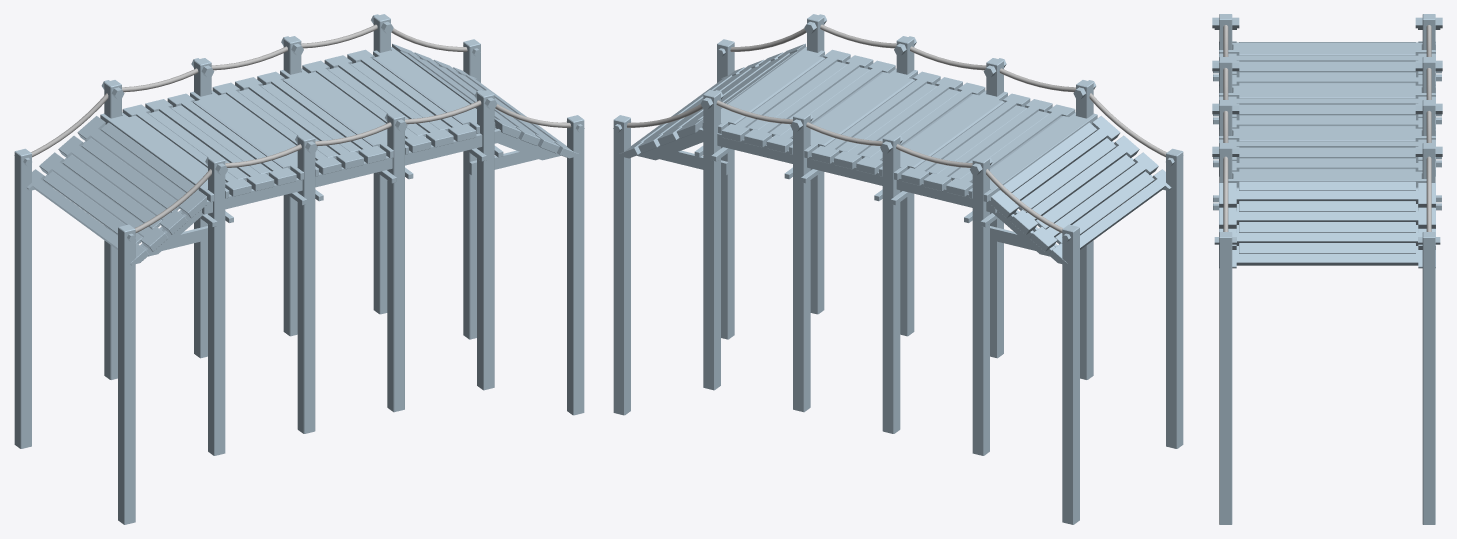
Rendered from bridge_big.fbx.
3 renders of one model, left to right at view 1: azimuth 30°, elevation 25°; view 2: azimuth 150°, elevation 25°; view 3: azimuth 270°, elevation 25°, orthographic.
Visible parts, largest first — view 1: posts, board_cut4, board_cut9, pCube15, polySurface28 (×2), polySurface25 (×2), board_cut8, board_cut6, polySurface27 (×2), polySurface26, polySurface24, polySurface20 (+18 smaller); view 2: posts, board_cut4, board_cut9, polySurface28 (×2), polySurface25 (×2), board_cut8, pCube15, board_cut6, polySurface27 (×2), polySurface26, polySurface24, polySurface16 (+18 smaller); view 3: posts, board_cut4, board_cut9, board_cut6, board_cut8, polySurface28, polySurface25, polySurface27, polySurface26, board_22, board_23, board_24 (+18 smaller).
Part boxes in pixels (x1,y1,x2,y2): posts: (14,14,584,524); board_cut4: (280,68,408,158); board_cut9: (190,90,318,180); pCube15: (202,129,502,214); polySurface28 (×2): (77,43,521,218); polySurface25 (×2): (58,52,540,234); board_cut8: (100,112,229,201); board_cut6: (372,47,495,133); polySurface27 (×2): (26,67,578,264); polySurface26: (39,152,168,251); polySurface24: (347,49,476,141); polySurface20: (145,99,274,191); posts: (613,14,1183,524); board_cut4: (789,68,917,158); board_cut9: (879,90,1007,180); polySurface28 (×2): (676,43,1120,218); polySurface25 (×2): (657,52,1139,234); board_cut8: (968,112,1097,201); pCube15: (697,127,996,213); board_cut6: (702,47,825,133); polySurface27 (×2): (619,67,1171,264); polySurface26: (1029,152,1158,251); polySurface24: (721,49,850,141); polySurface16: (811,71,940,163); posts: (1219,14,1435,524); board_cut4: (1219,125,1435,141); board_cut9: (1219,82,1435,98); board_cut6: (1228,168,1426,187); board_cut8: (1219,43,1435,55); polySurface28: (1219,183,1435,207); polySurface25: (1219,207,1435,228); polySurface27: (1219,250,1435,268); polySurface26: (1219,228,1435,249); board_22: (1239,201,1415,211); board_23: (1239,222,1415,232); board_24: (1239,243,1415,253).
Size of the model in its own units: 13.13 by 9.28 by 5.79.
